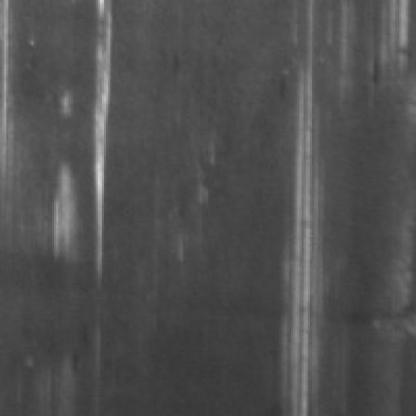scratches: (270, 54, 331, 414), (81, 0, 117, 283)
